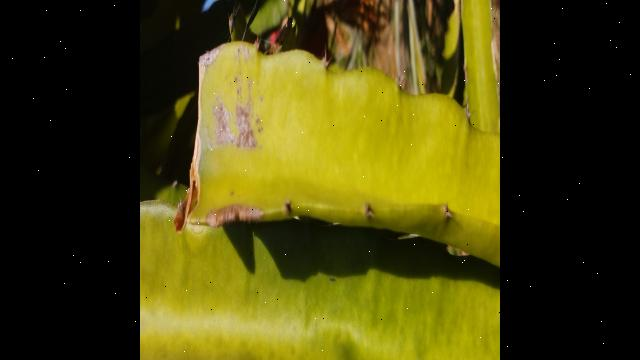stemcanker: (172, 27, 497, 257)
